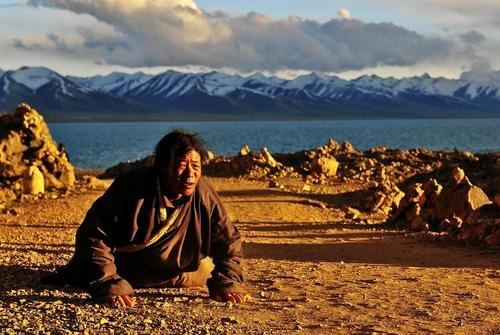falling: (46, 124, 251, 308)
